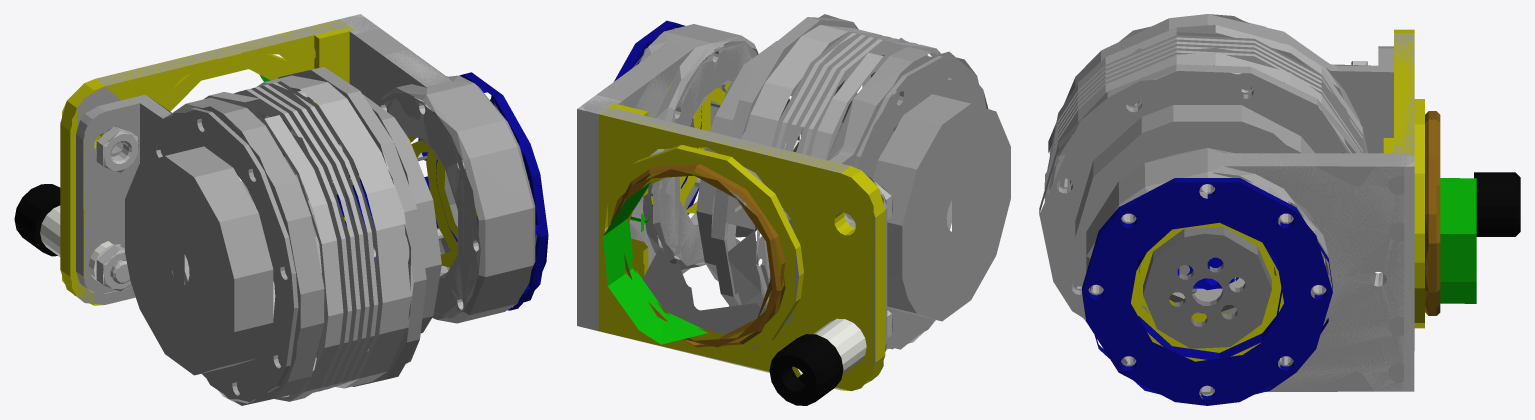
The model's file is ArmR_Sho2_joint_visu.dae.
3 renders of one model, left to right at view 1: azimuth 30°, elevation 25°; view 2: azimuth 150°, elevation 25°; view 3: azimuth 270°, elevation 25°, orthographic. The views are drawn at different scales.
Parts seen in each view (by area): view 1: Visualization_ARDof2; view 2: Visualization_ARDof2; view 3: Visualization_ARDof2.
Boxes of the visible parts, bbox=[...] form: Visualization_ARDof2: bbox=[14, 14, 548, 405]; Visualization_ARDof2: bbox=[577, 14, 1010, 405]; Visualization_ARDof2: bbox=[1039, 14, 1520, 405].
Bounding box in the file's own units: 0.075 × 0.093 × 0.0639.
